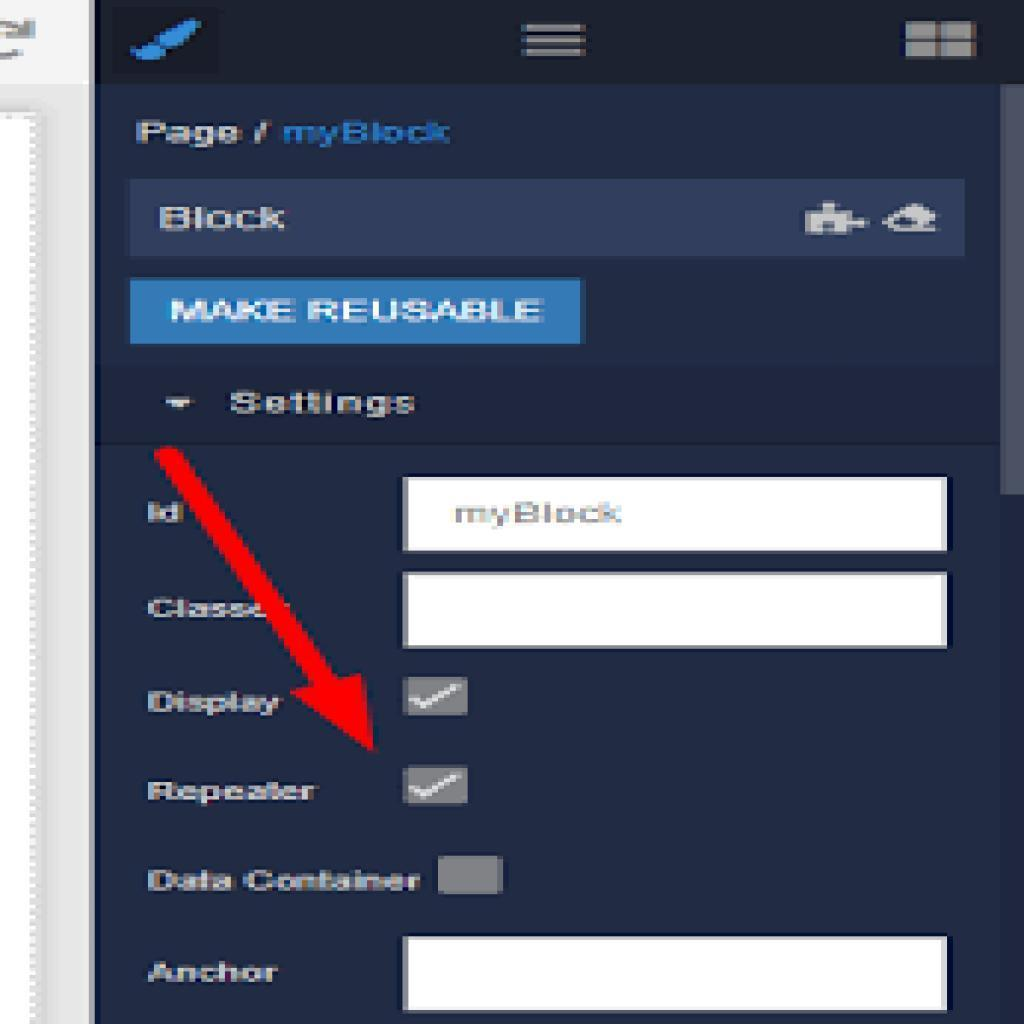checkbox: (435, 839, 526, 896), (402, 762, 471, 809), (404, 677, 469, 716)
dropdown: (95, 362, 964, 444)
icon: (131, 18, 208, 68), (519, 17, 590, 71), (902, 17, 982, 63), (881, 191, 949, 241), (797, 195, 866, 244)
input: (402, 473, 948, 554), (402, 572, 952, 649), (401, 937, 951, 1014)
